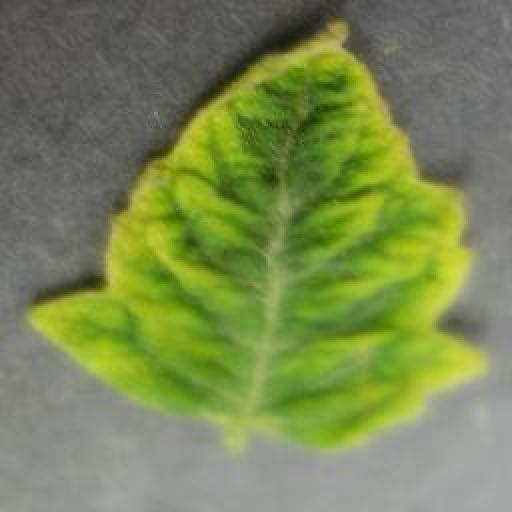Yellow Leaf Curl Virus: (25, 17, 491, 451)
